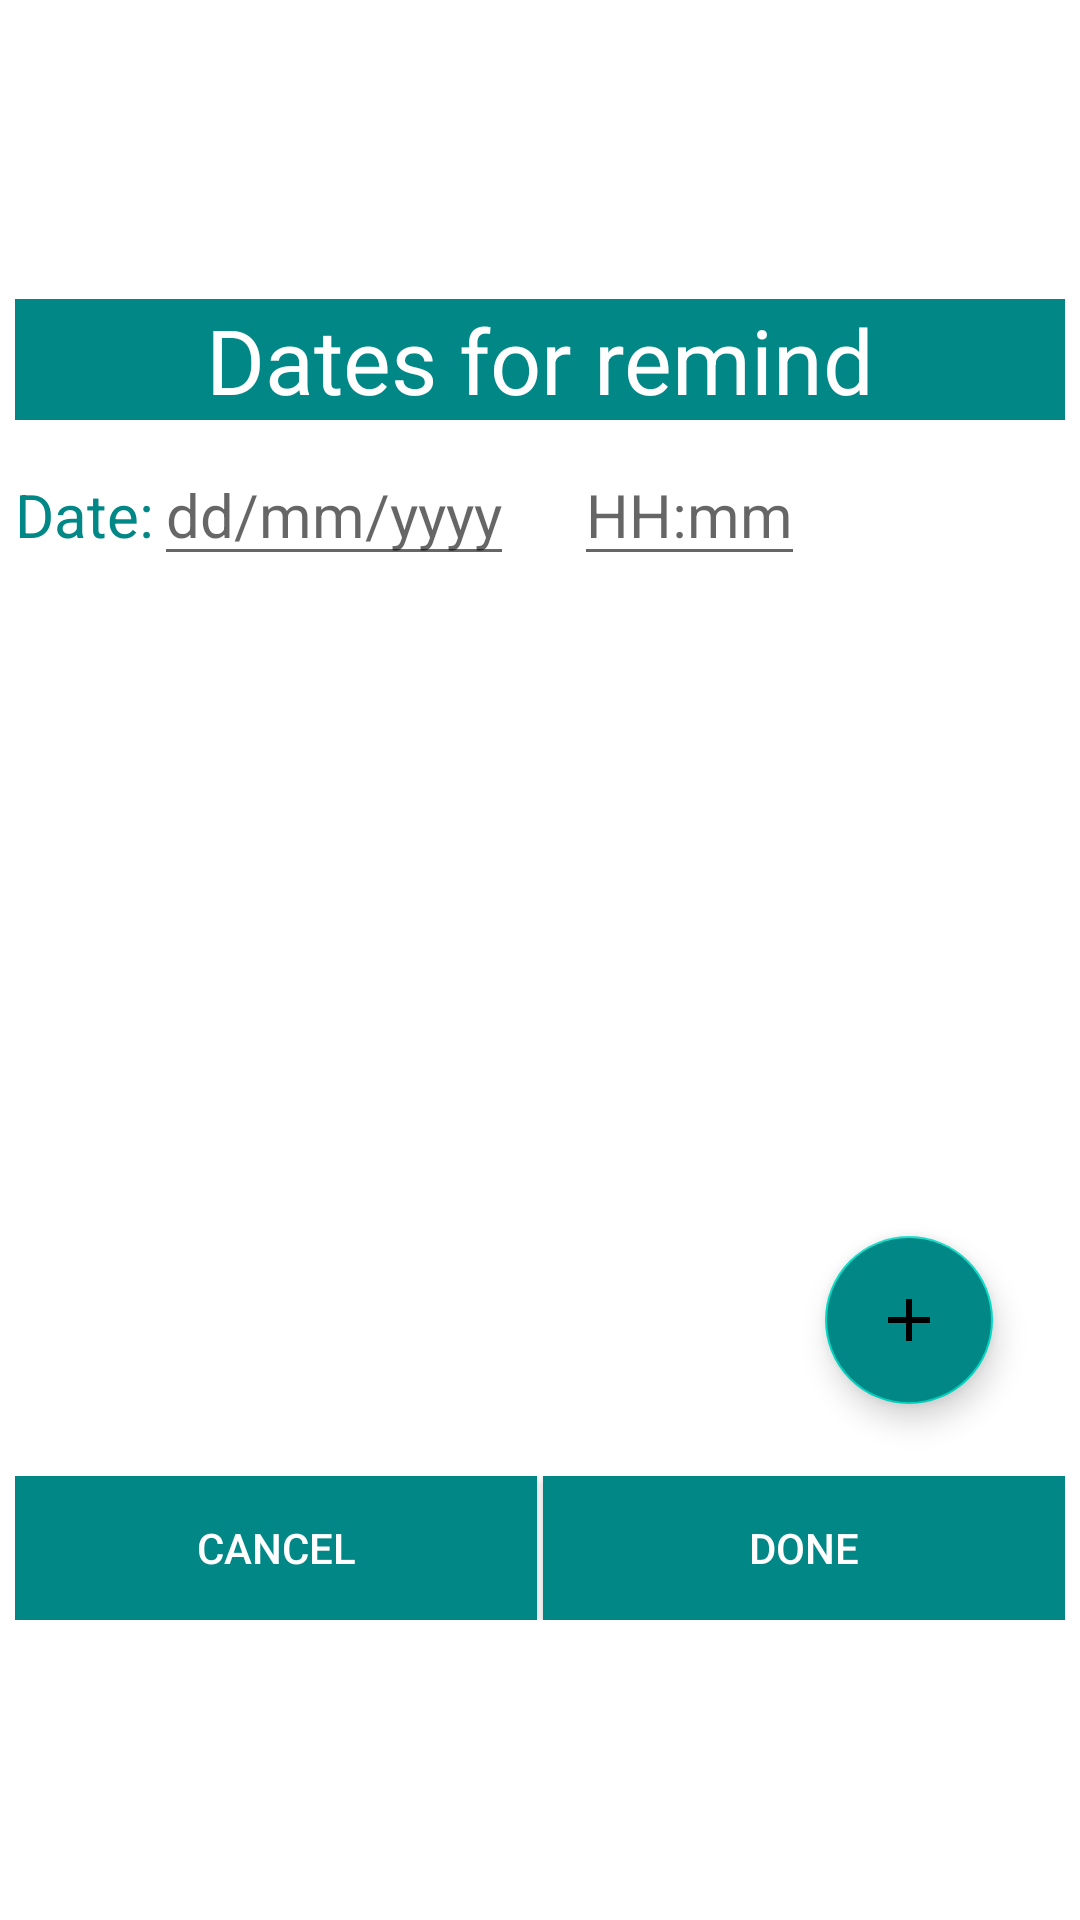

Icon click points for this 1080px×1920px phone screenshot, format [x,y]:
add: [909,1320]
